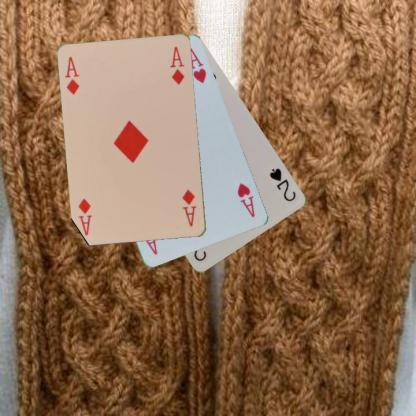2s: (267, 166, 297, 204)
Ad: (63, 53, 81, 96), (180, 187, 198, 228)
Ah: (234, 180, 256, 219)
